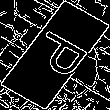P_SE: (18, 26, 92, 84)
